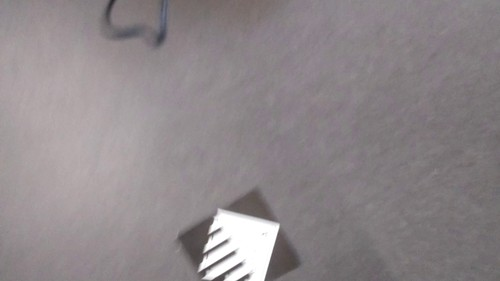misgoods: (172, 202, 304, 281)
